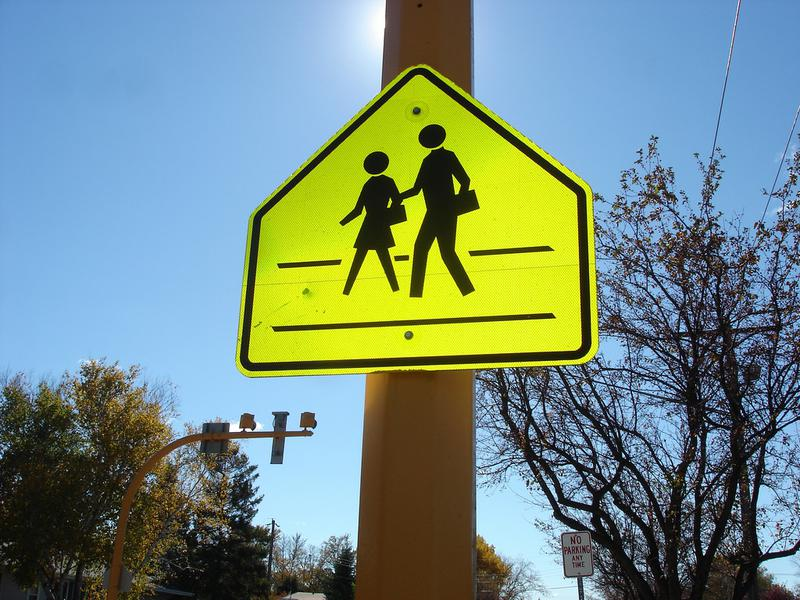slow: (226, 76, 594, 363)
